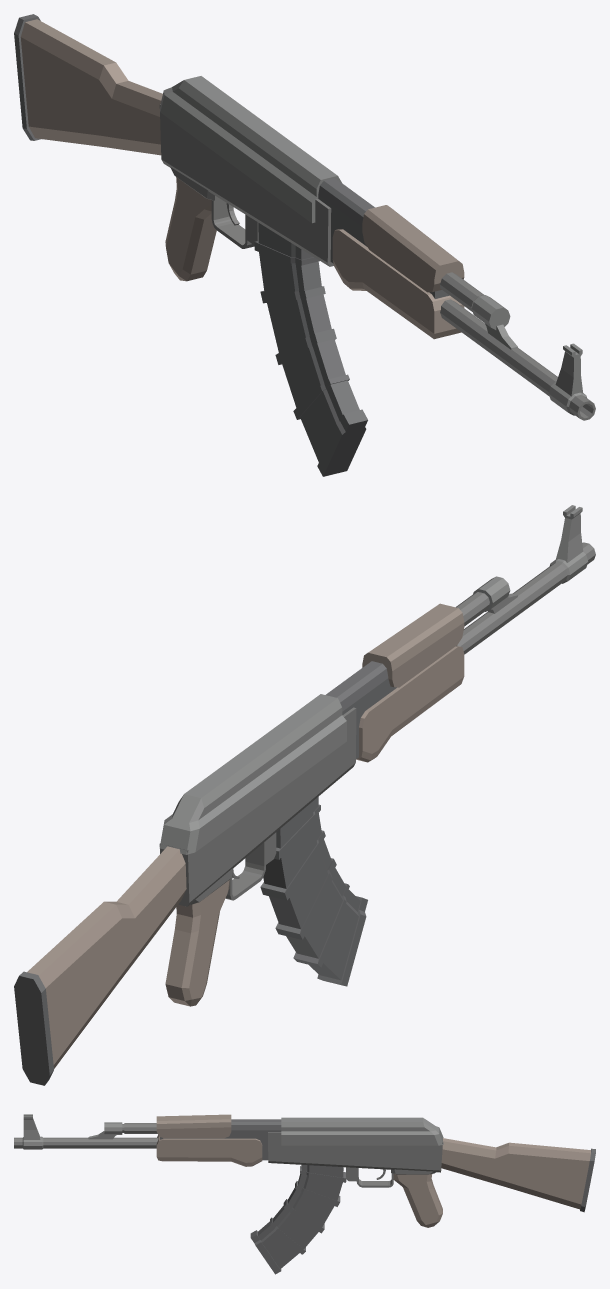
Rendered from Rifle.fbx.
3 renders of one model, top to bottom at view 1: azimuth 30°, elevation 25°; view 2: azimuth 150°, elevation 25°; view 3: azimuth 270°, elevation 25°, orthographic. The views are drawn at different scales.
Parts seen in each view (by area): view 1: AssaultRifle_2; view 2: AssaultRifle_2; view 3: AssaultRifle_2.
Boxes of the visible parts, x1,y1,x2,y2 form: AssaultRifle_2: [14, 14, 595, 476]; AssaultRifle_2: [14, 505, 595, 1085]; AssaultRifle_2: [14, 1114, 595, 1274].
Bounding box in the file's own units: 0.0325 × 0.2658 × 0.9.
